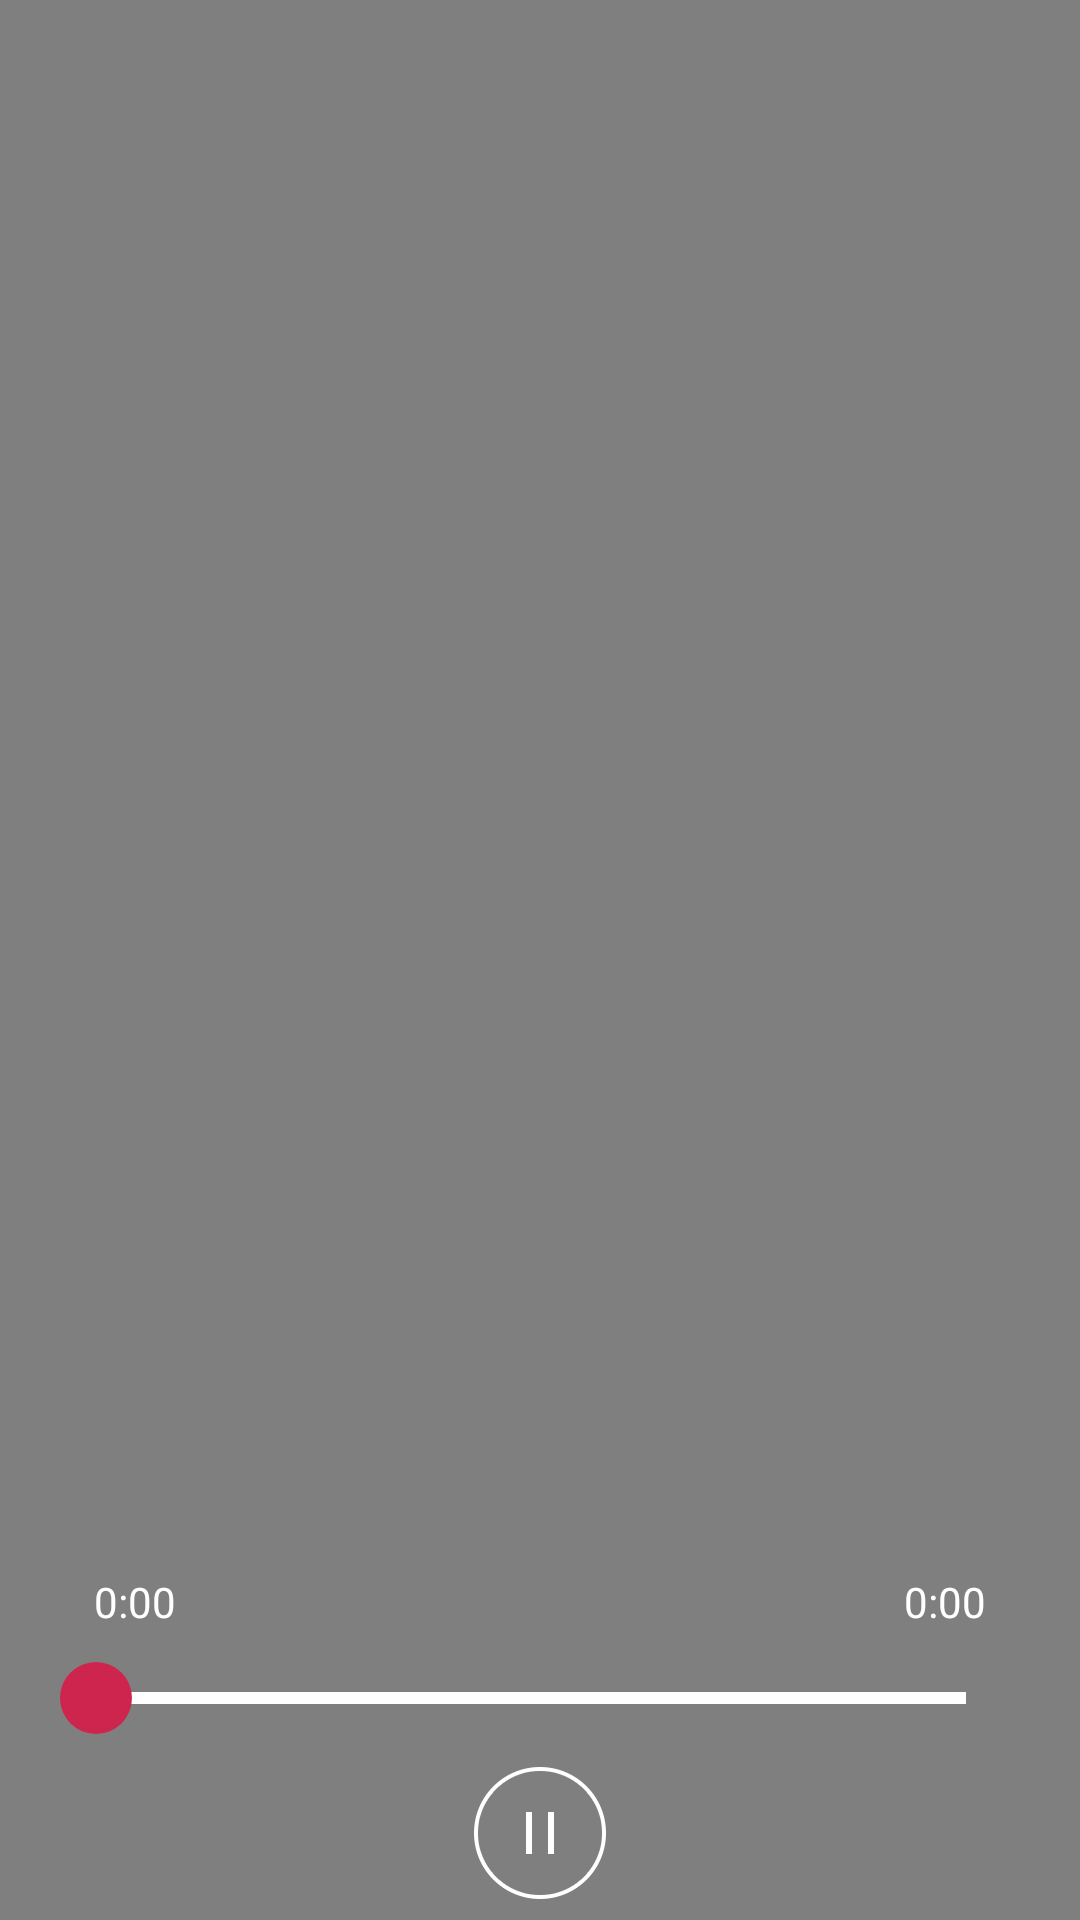

Locate icon controls on the screen. Image size 1080px x 1920px, boxes as box=[x1, y1, x2, y2].
pause: box=[474, 1767, 606, 1899]
